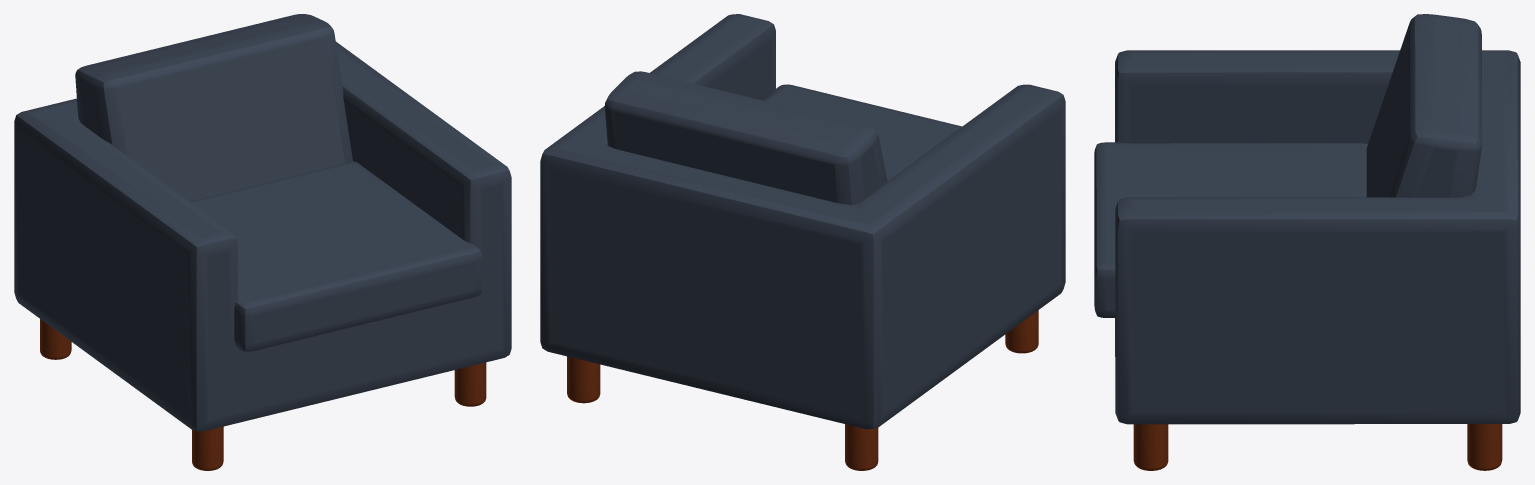
The model's file is ChairFinished_Clean.fbx.
3 renders of one model, left to right at view 1: azimuth 30°, elevation 25°; view 2: azimuth 150°, elevation 25°; view 3: azimuth 270°, elevation 25°, orthographic. The views are drawn at different scales.
Parts seen in each view (by area): view 1: Chair, BackRest, Box005, GoodCyl2, GoodCyl, GoodCyl3; view 2: Chair, BackRest, Box005, GoodCyl3, GoodCyl4, GoodCyl; view 3: Chair, BackRest, Box005, GoodCyl2, GoodCyl4.
Part boxes in pixels (x1=…): Chair: x1=14, y1=41, x2=511, y2=431; BackRest: x1=75, y1=14, x2=352, y2=201; Box005: x1=190, y1=161, x2=482, y2=351; GoodCyl2: x1=454, y1=362, x2=486, y2=406; GoodCyl: x1=192, y1=426, x2=223, y2=470; GoodCyl3: x1=40, y1=319, x2=71, y2=359; Chair: x1=540, y1=14, x2=1065, y2=429; BackRest: x1=604, y1=71, x2=887, y2=205; Box005: x1=764, y1=84, x2=961, y2=180; GoodCyl3: x1=845, y1=424, x2=878, y2=470; GoodCyl4: x1=567, y1=356, x2=600, y2=403; GoodCyl: x1=1005, y1=310, x2=1038, y2=353; Chair: x1=1115, y1=50, x2=1520, y2=424; BackRest: x1=1366, y1=14, x2=1481, y2=197; Box005: x1=1094, y1=142, x2=1367, y2=317; GoodCyl2: x1=1133, y1=424, x2=1168, y2=470; GoodCyl4: x1=1467, y1=424, x2=1502, y2=470.
Bounding box in the file's own units: 35.02 × 36.82 × 30.58.
